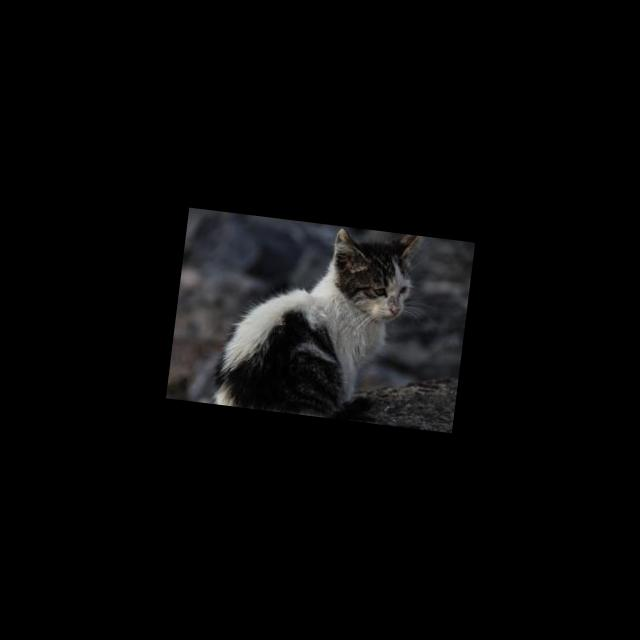animals: (212, 213, 427, 427)
